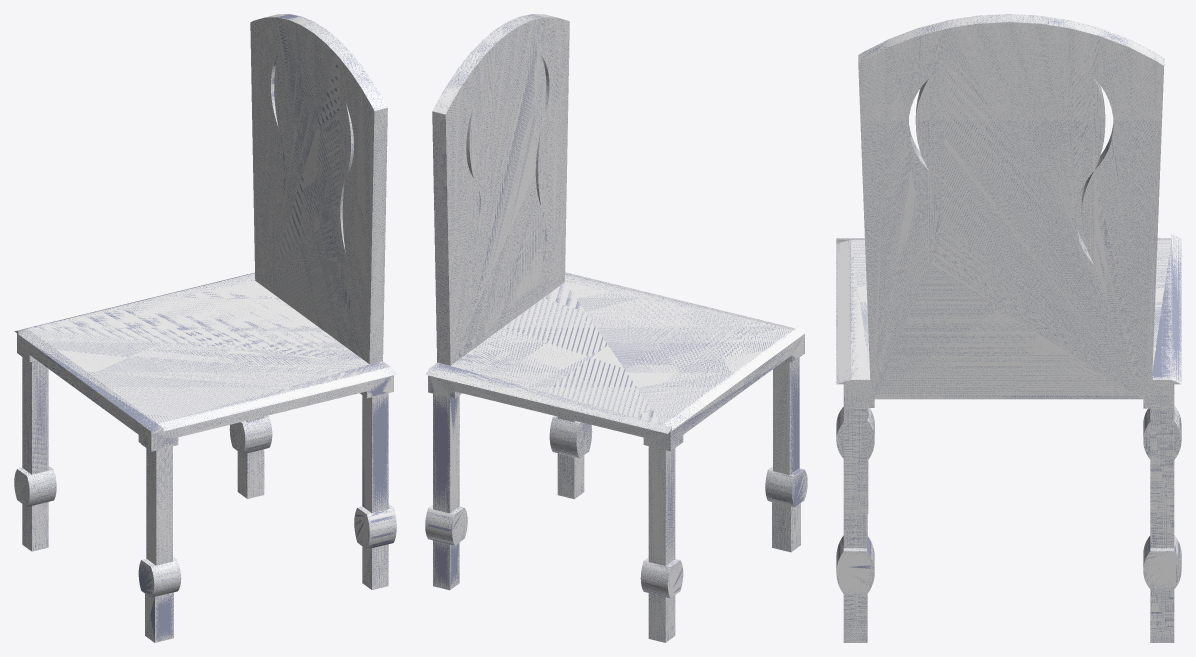
File: Chair1.fbx
3 views of the same model, side by side, from view 1: azimuth 30°, elevation 25°; view 2: azimuth 150°, elevation 25°; view 3: azimuth 270°, elevation 25° (orthographic). The views are drawn at different scales.
Parts seen in each view (by area): view 1: Group1, Group2; view 2: Group1, Group2; view 3: Group1, Group2.
Boxes of the visible parts, x1,y1,x2,y2 form: Group1: (14, 14, 396, 642); Group2: (15, 272, 396, 433); Group1: (425, 14, 807, 642); Group2: (425, 272, 807, 433); Group1: (836, 14, 1181, 642); Group2: (836, 234, 1181, 383).
Bounding box in the file's own units: 18 × 35.9 × 18.
